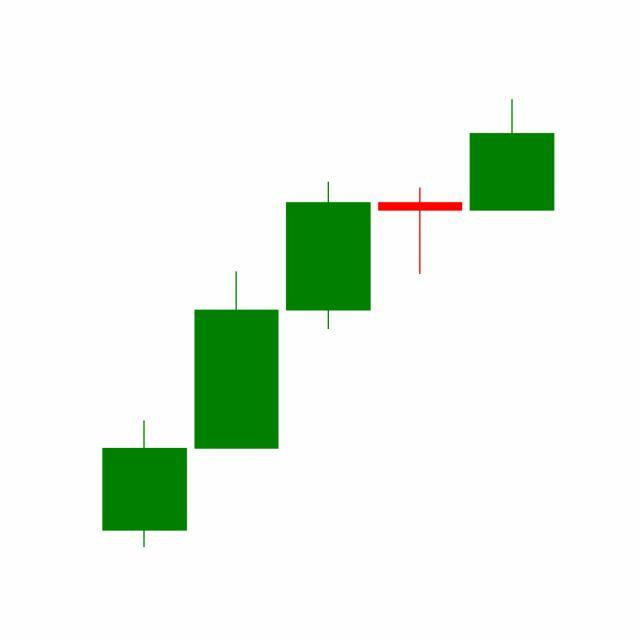Hanging Man: (374, 187, 468, 276)
